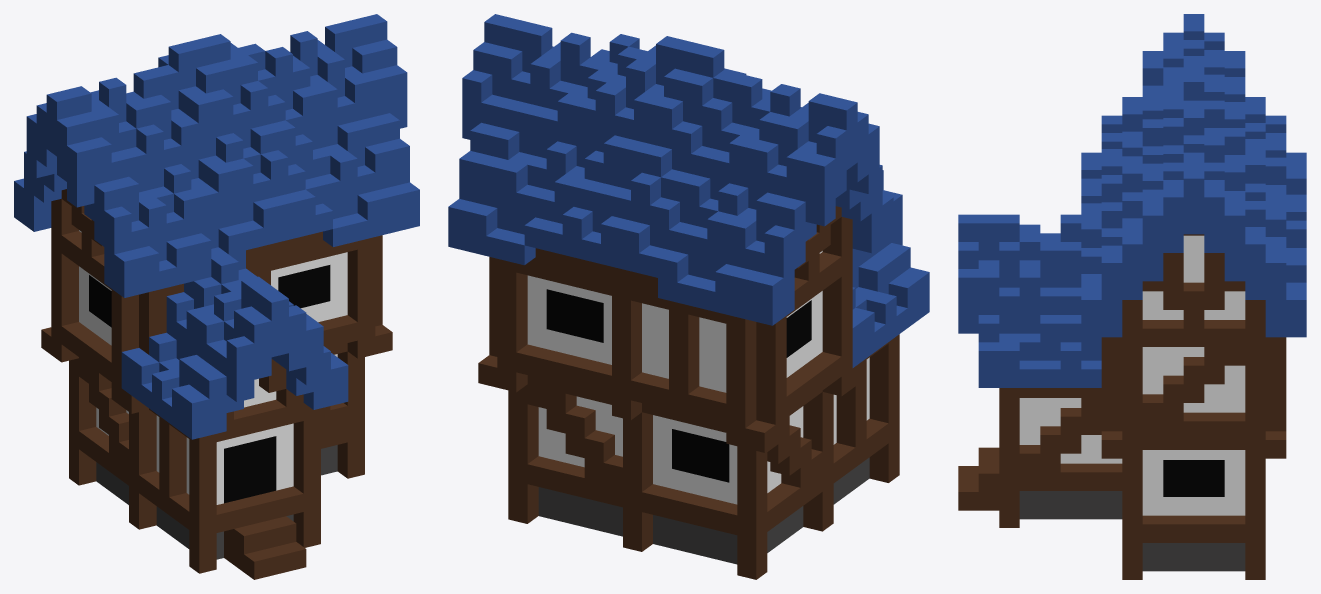
Rendered from house12.fbx.
3 views of the same model, side by side, from view 1: azimuth 30°, elevation 25°; view 2: azimuth 150°, elevation 25°; view 3: azimuth 270°, elevation 25° (orthographic). The views are drawn at different scales.
Parts seen in each view (by area): view 1: house1-15; view 2: house1-15; view 3: house1-15.
Part boxes in pixels (<box>): house1-15: <box>14,14,419,579</box>; house1-15: <box>448,14,929,579</box>; house1-15: <box>958,14,1306,579</box>.
Bounding box in the file's own units: 1900 × 2400 × 1700.
